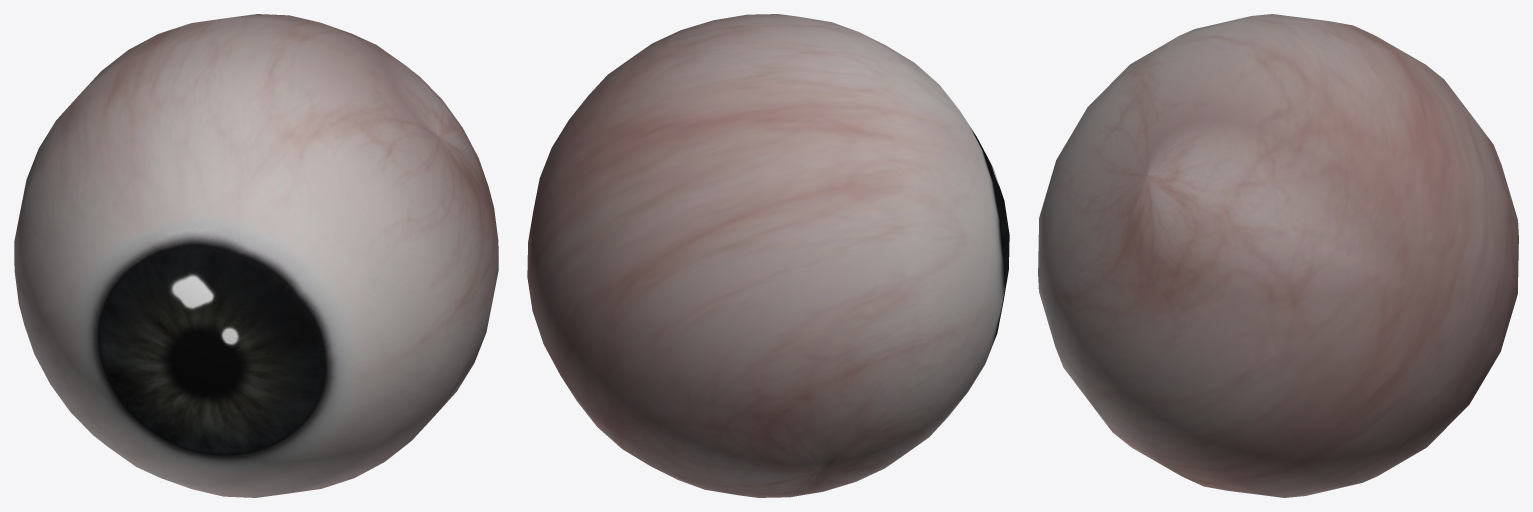
Rendered from EyeBall3.obj.
The picture shows the model from 3 angles, left to right: view 1: azimuth 30°, elevation 25°; view 2: azimuth 150°, elevation 25°; view 3: azimuth 270°, elevation 25°; orthographic projection.
Parts seen in each view (by area): view 1: EyeBall3:pSphere6; view 2: EyeBall3:pSphere6; view 3: EyeBall3:pSphere6.
Boxes of the visible parts, x1,y1,x2,y2 form: EyeBall3:pSphere6: (14, 14, 498, 497); EyeBall3:pSphere6: (527, 14, 1009, 497); EyeBall3:pSphere6: (1038, 14, 1518, 497).
Bounding box in the file's own units: 1.74 × 1.74 × 1.73.
Materials: 1 (1 with a texture image).
